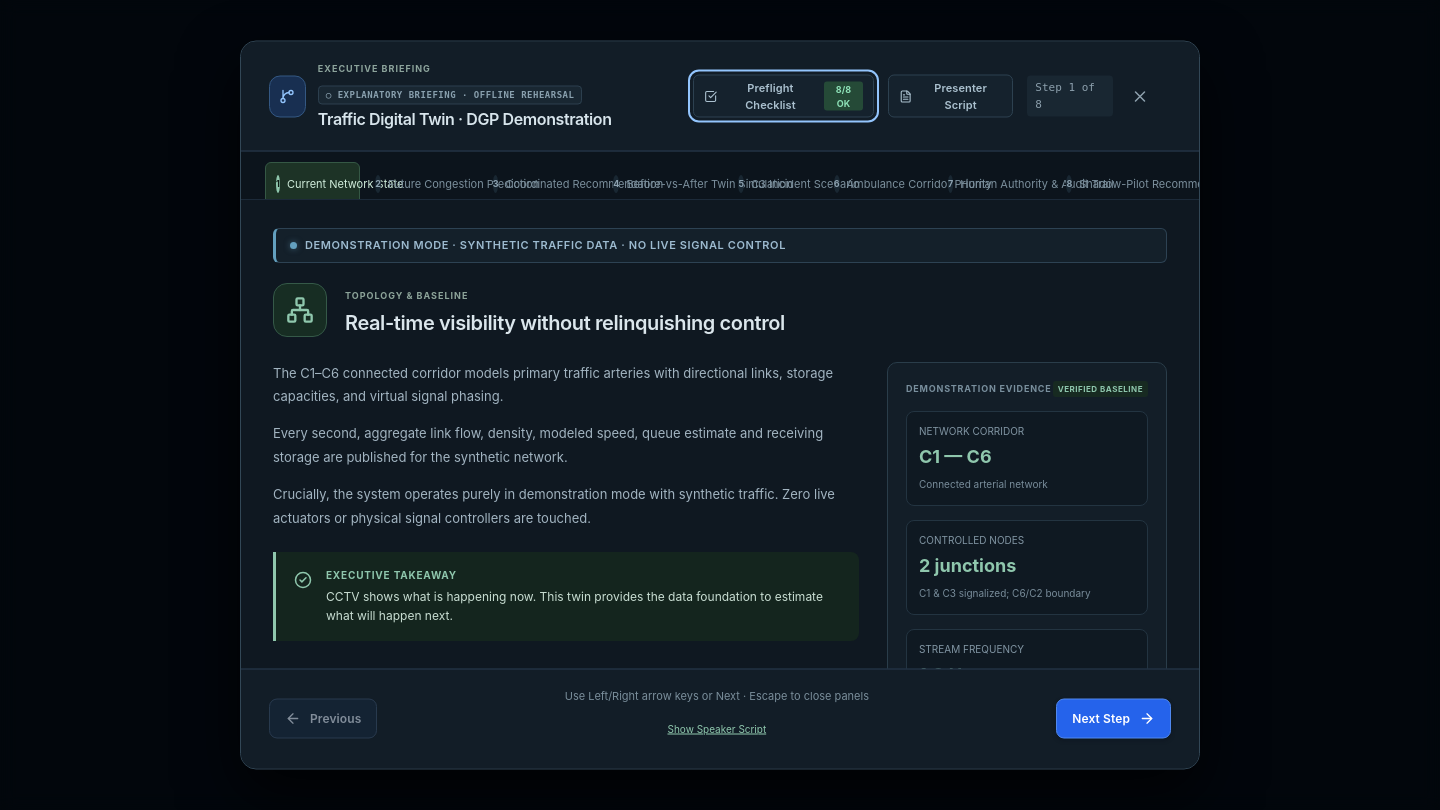
Test: Epic 11 S34: Guided 8-Step DGP Demonstration Presentation › toggles speaker script notes with timing cues, pitch, and Q&A
Click the button with aria-label "Toggle presenter script and talking points": (951, 96) top-left (888, 74), bottom-right (1013, 118)
(page scrolled)
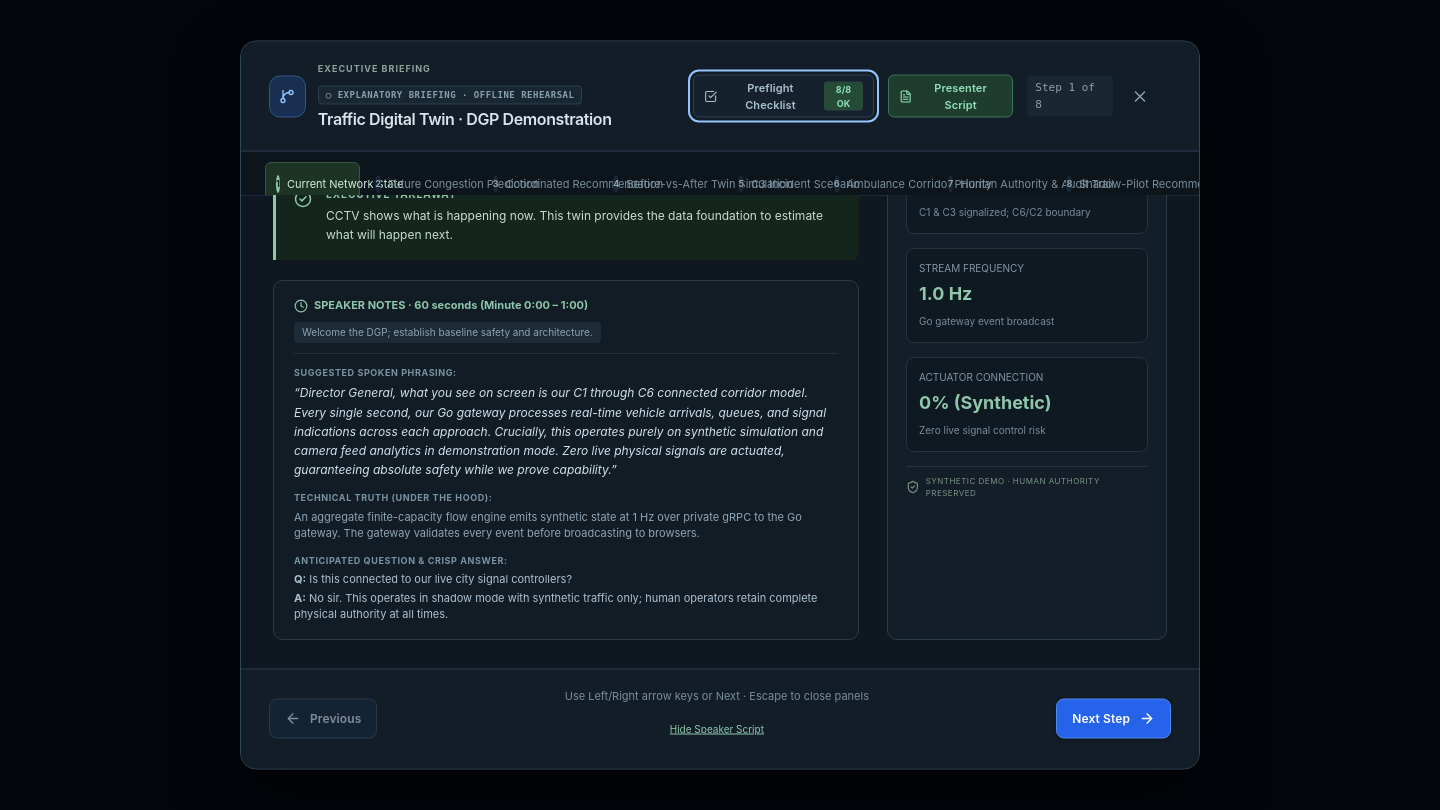
Now the text "SPEAKER NOTES · 60 seconds (Minute 0:00 – 1:00)" is shown, box top-left (314, 298), bottom-right (588, 314)
Now the text "Suggested Spoken Phrasing:" is shown, box top-left (294, 367), bottom-right (457, 378)
Now the text "Technical Truth (Under the Hood):" is shown, box top-left (294, 493), bottom-right (492, 504)
